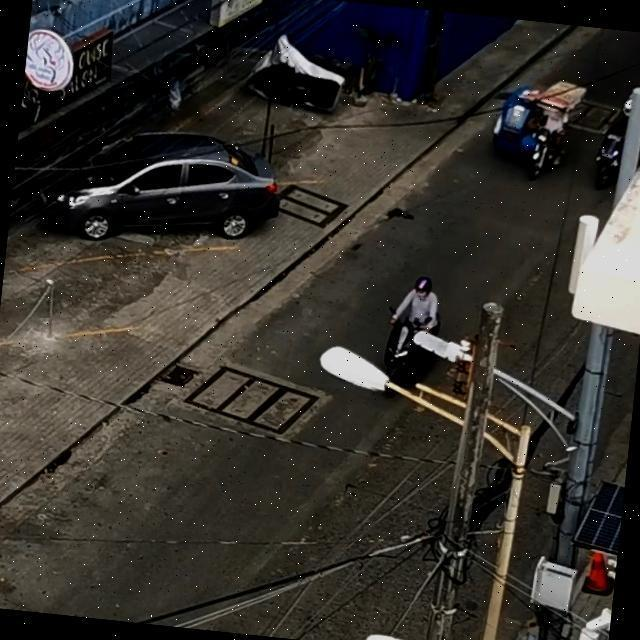Motorcycle: (366, 270, 442, 395), (587, 82, 640, 193)
Tricycle: (467, 48, 630, 206)
